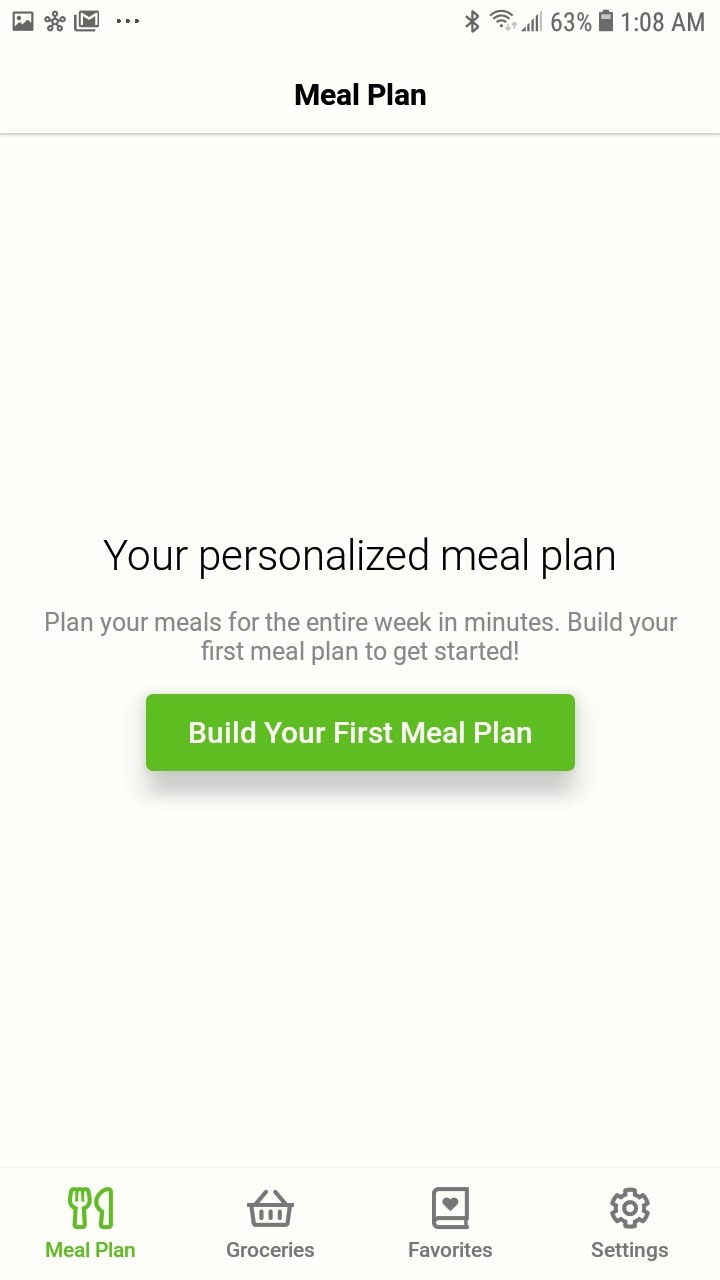Icon: (247, 1189, 295, 1228), (610, 1187, 651, 1229), (432, 1187, 470, 1230)
Image: (68, 1186, 114, 1230)
Text: (46, 611, 678, 666), (103, 537, 615, 580), (295, 83, 427, 107), (591, 1241, 669, 1262), (46, 1241, 136, 1258), (227, 1241, 315, 1258), (409, 1241, 493, 1258)
TextButton: (146, 694, 576, 772)
UpperTaskBar: (1, 1, 720, 35)
